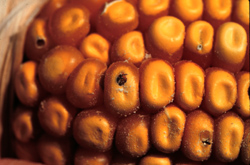corn: (1, 0, 249, 164)
